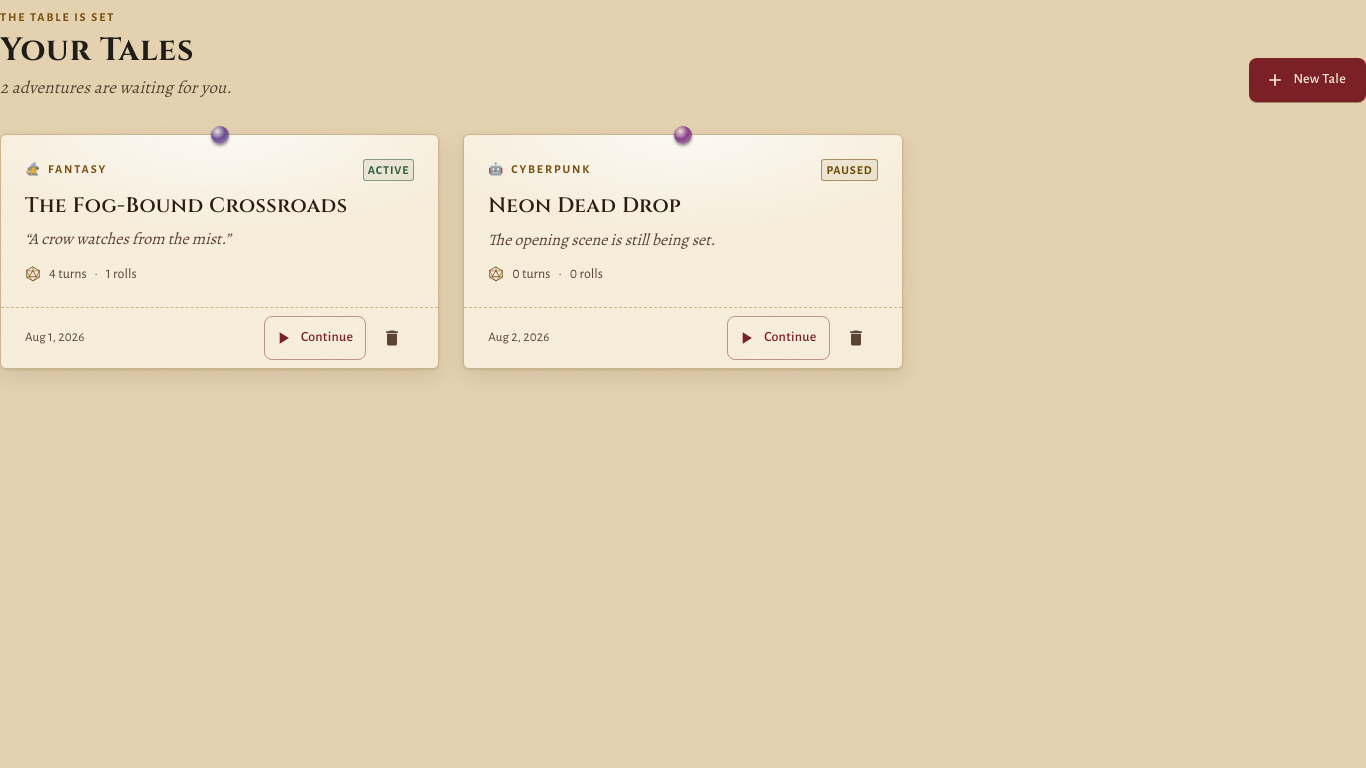
StoryList › surfaces the server message rather than a generic failure
expect the heading "The Fog-Bound Crossroads" is shown: met, box x1=25 y1=192 x2=348 y2=220
Step 1. Click the button "New Tale" → (1308, 80), box x1=1249 y1=58 x2=1365 y2=102
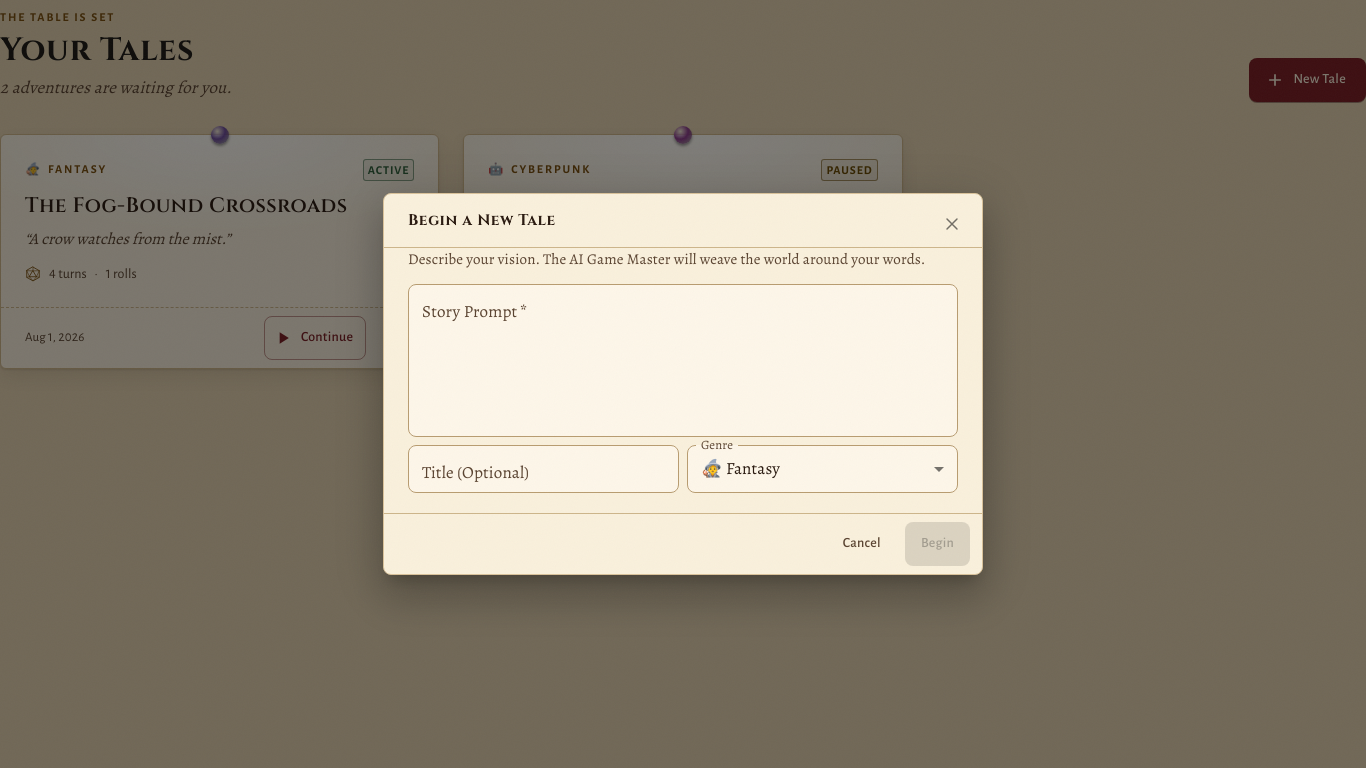
Step 2. Type "A wanderer arrives at a crossroads." into the text box labelled "Story Prompt *" → (683, 360), box x1=422 y1=300 x2=944 y2=420
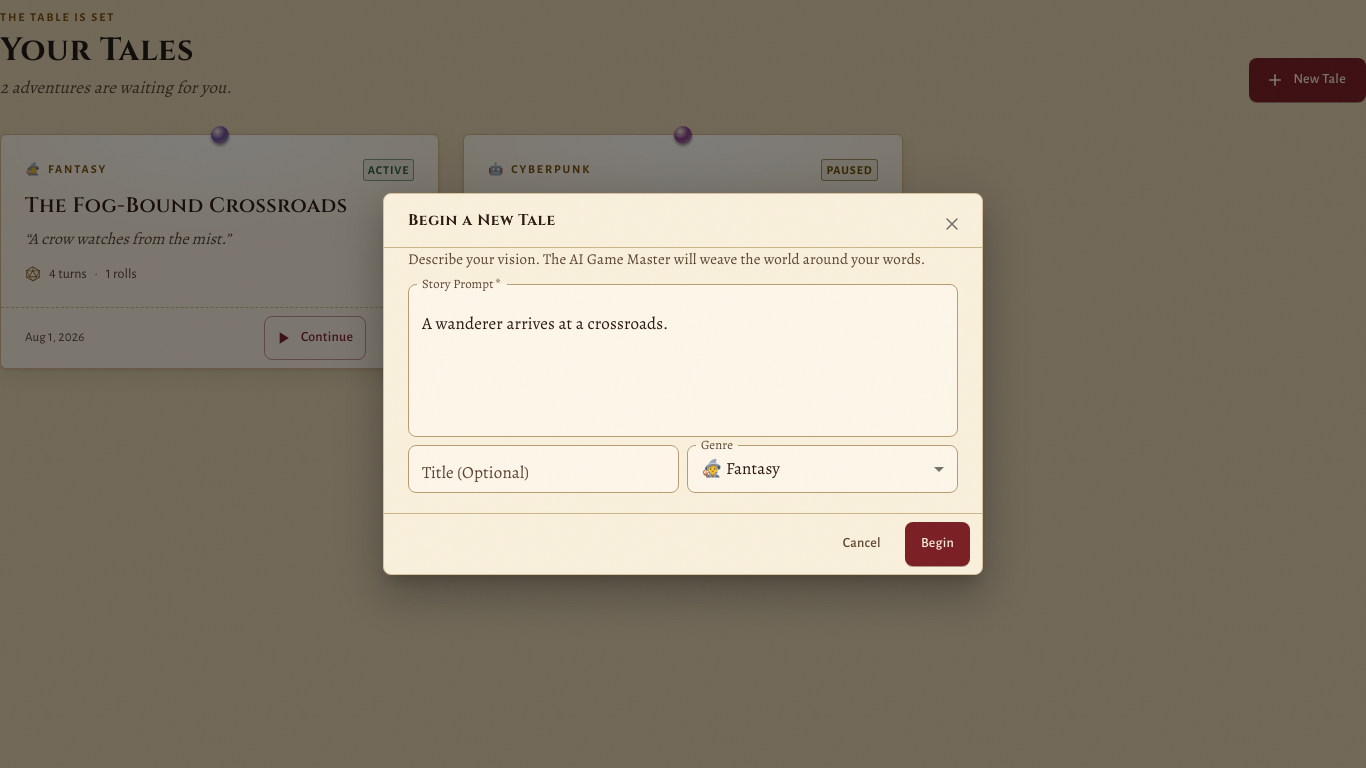
Step 3. Click the button "Begin" → (937, 544), box x1=905 y1=522 x2=970 y2=566
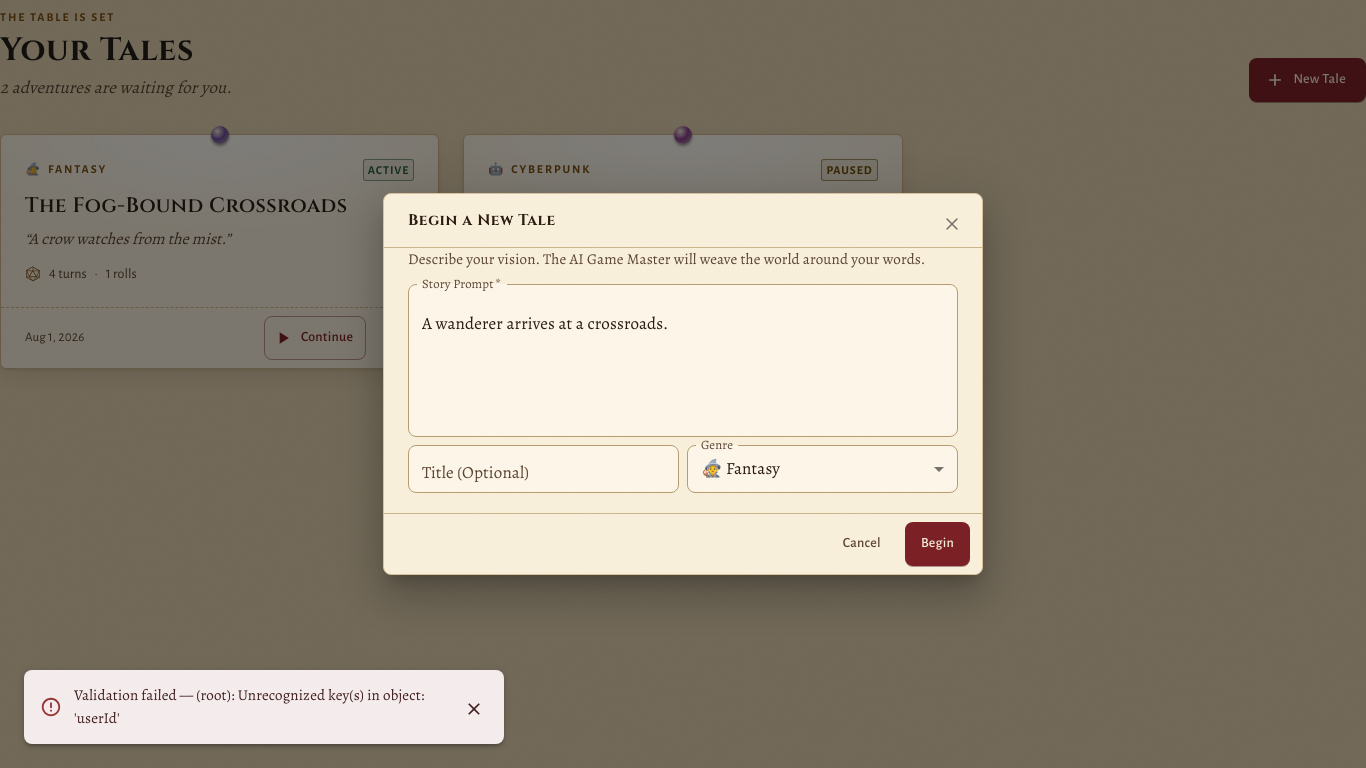
expect the text "Unrecognized key" is shown: met, box x1=74 y1=684 x2=425 y2=728
